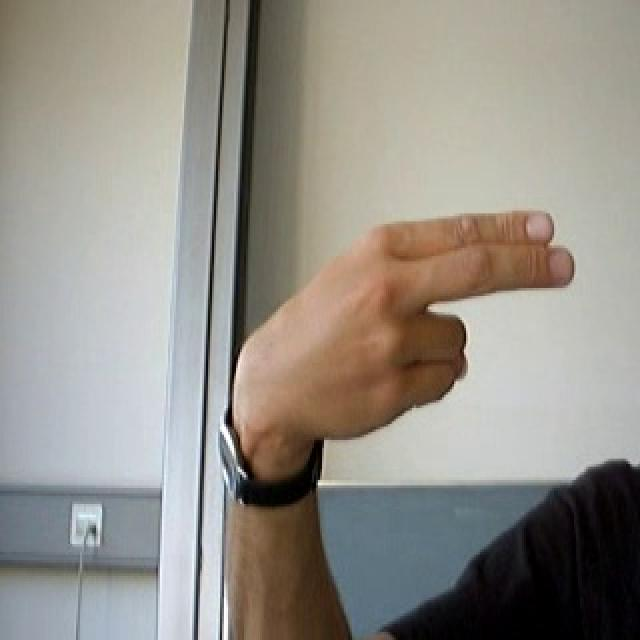H: (217, 174, 592, 473)
